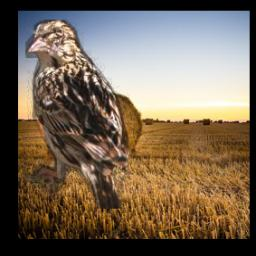Sparrow: (26, 20, 130, 209)
